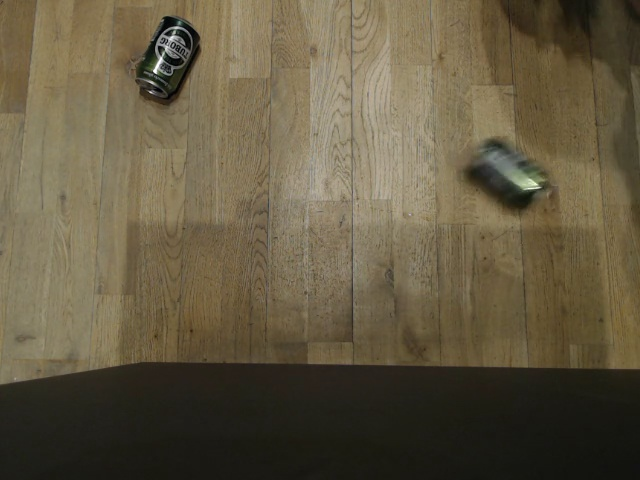beer: (460, 134, 557, 210), (132, 13, 202, 100)
